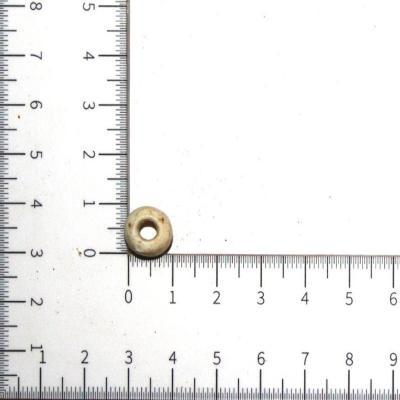archeology: (124, 206, 174, 261)
